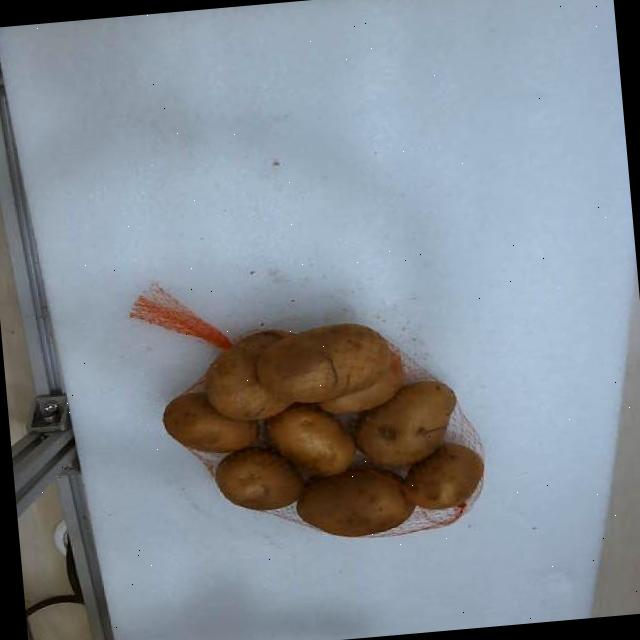potato: (257, 323, 401, 412), (353, 381, 455, 465), (296, 467, 413, 537), (206, 330, 289, 420), (265, 405, 355, 475), (162, 392, 257, 452), (255, 336, 339, 403), (214, 447, 303, 510), (255, 336, 335, 401), (405, 444, 482, 510)
